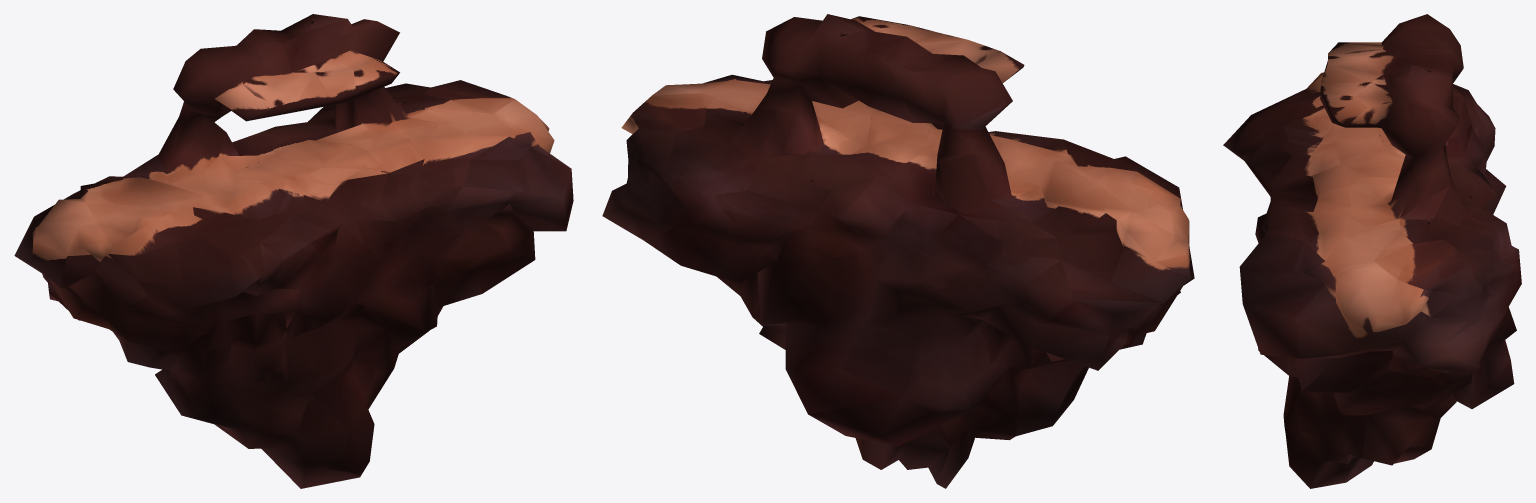
File: desert.glb
The picture shows the model from 3 angles, left to right: view 1: azimuth 30°, elevation 25°; view 2: azimuth 150°, elevation 25°; view 3: azimuth 270°, elevation 25°; orthographic projection. The views are drawn at different scales.
Visible parts, largest first — view 1: Stage; view 2: Stage; view 3: Stage.
Boxes of the visible parts, <box> form: Stage: <box>14,14,573,488</box>; Stage: <box>602,14,1194,488</box>; Stage: <box>1223,14,1521,488</box>.
Size of the model in its own units: 7.56 by 6.1 by 3.73.
1 material, 1 textured.
